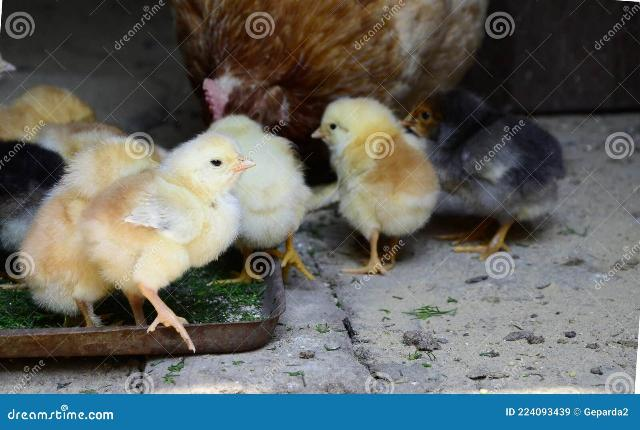Chicken: (167, 2, 490, 169)
